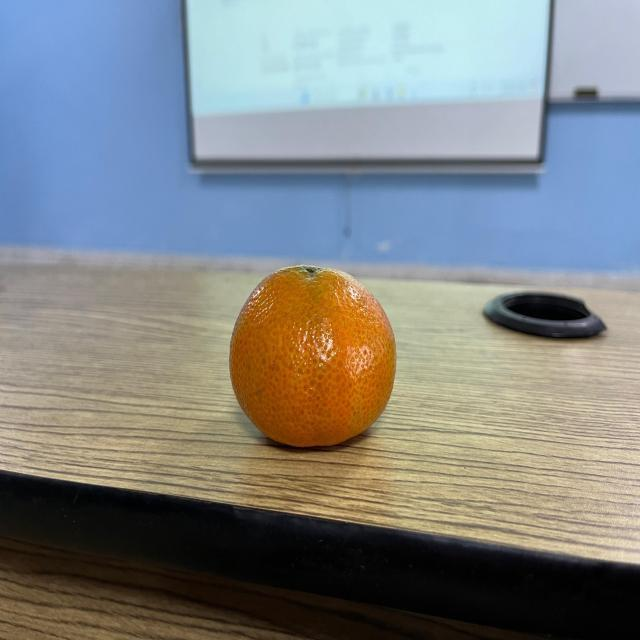Jeruk Mandarin: (228, 262, 402, 454)
